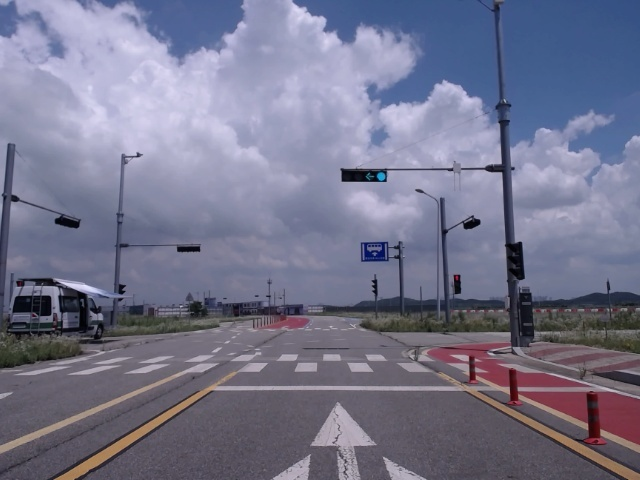all_green_4: (343, 170, 393, 182)
